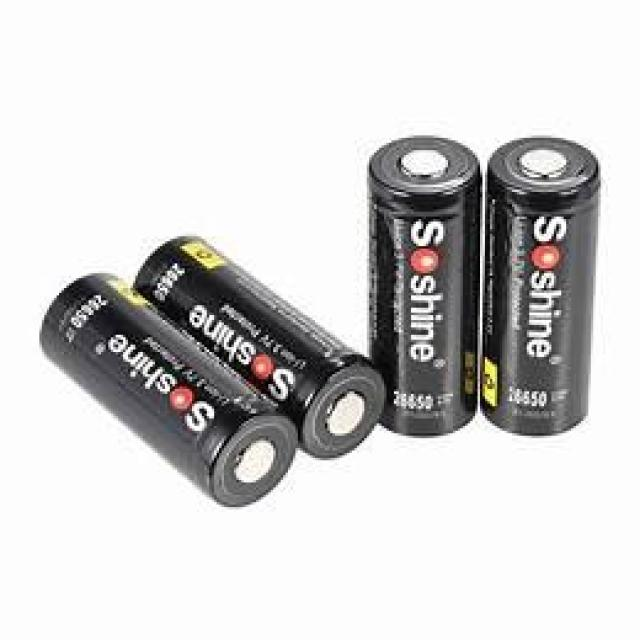battery: (44, 271, 299, 502), (133, 231, 385, 459), (367, 131, 479, 438), (488, 130, 598, 436)
